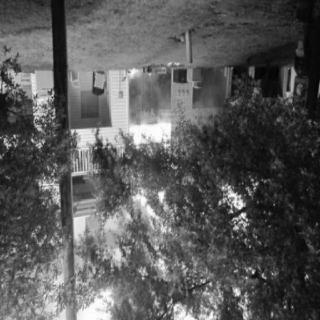Fire: (125, 118, 173, 160), (127, 192, 165, 240), (126, 66, 142, 82)
